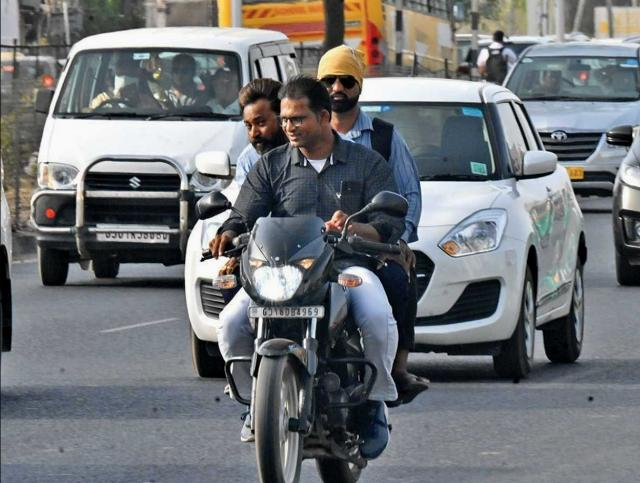licensePlate: (243, 305, 327, 322)
motorcycle: (198, 44, 425, 483)
withoutHelmet: (237, 78, 285, 152), (280, 82, 332, 147), (317, 48, 365, 111)
